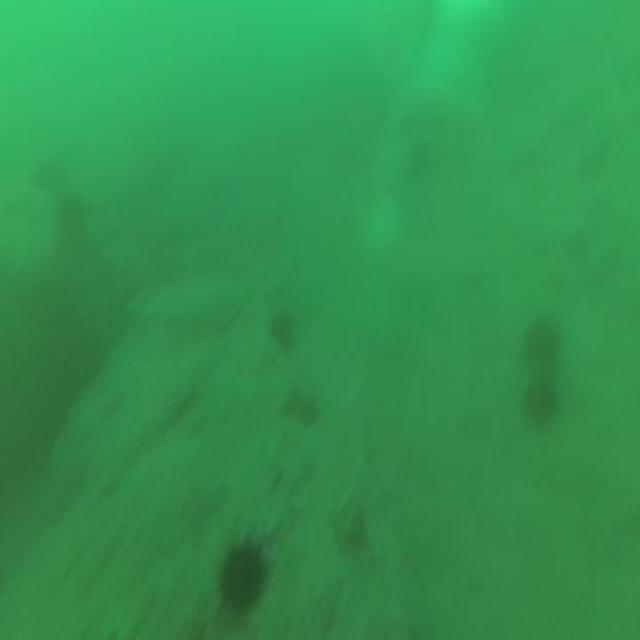echinus: (218, 531, 268, 621), (524, 310, 560, 378), (523, 365, 559, 428)
